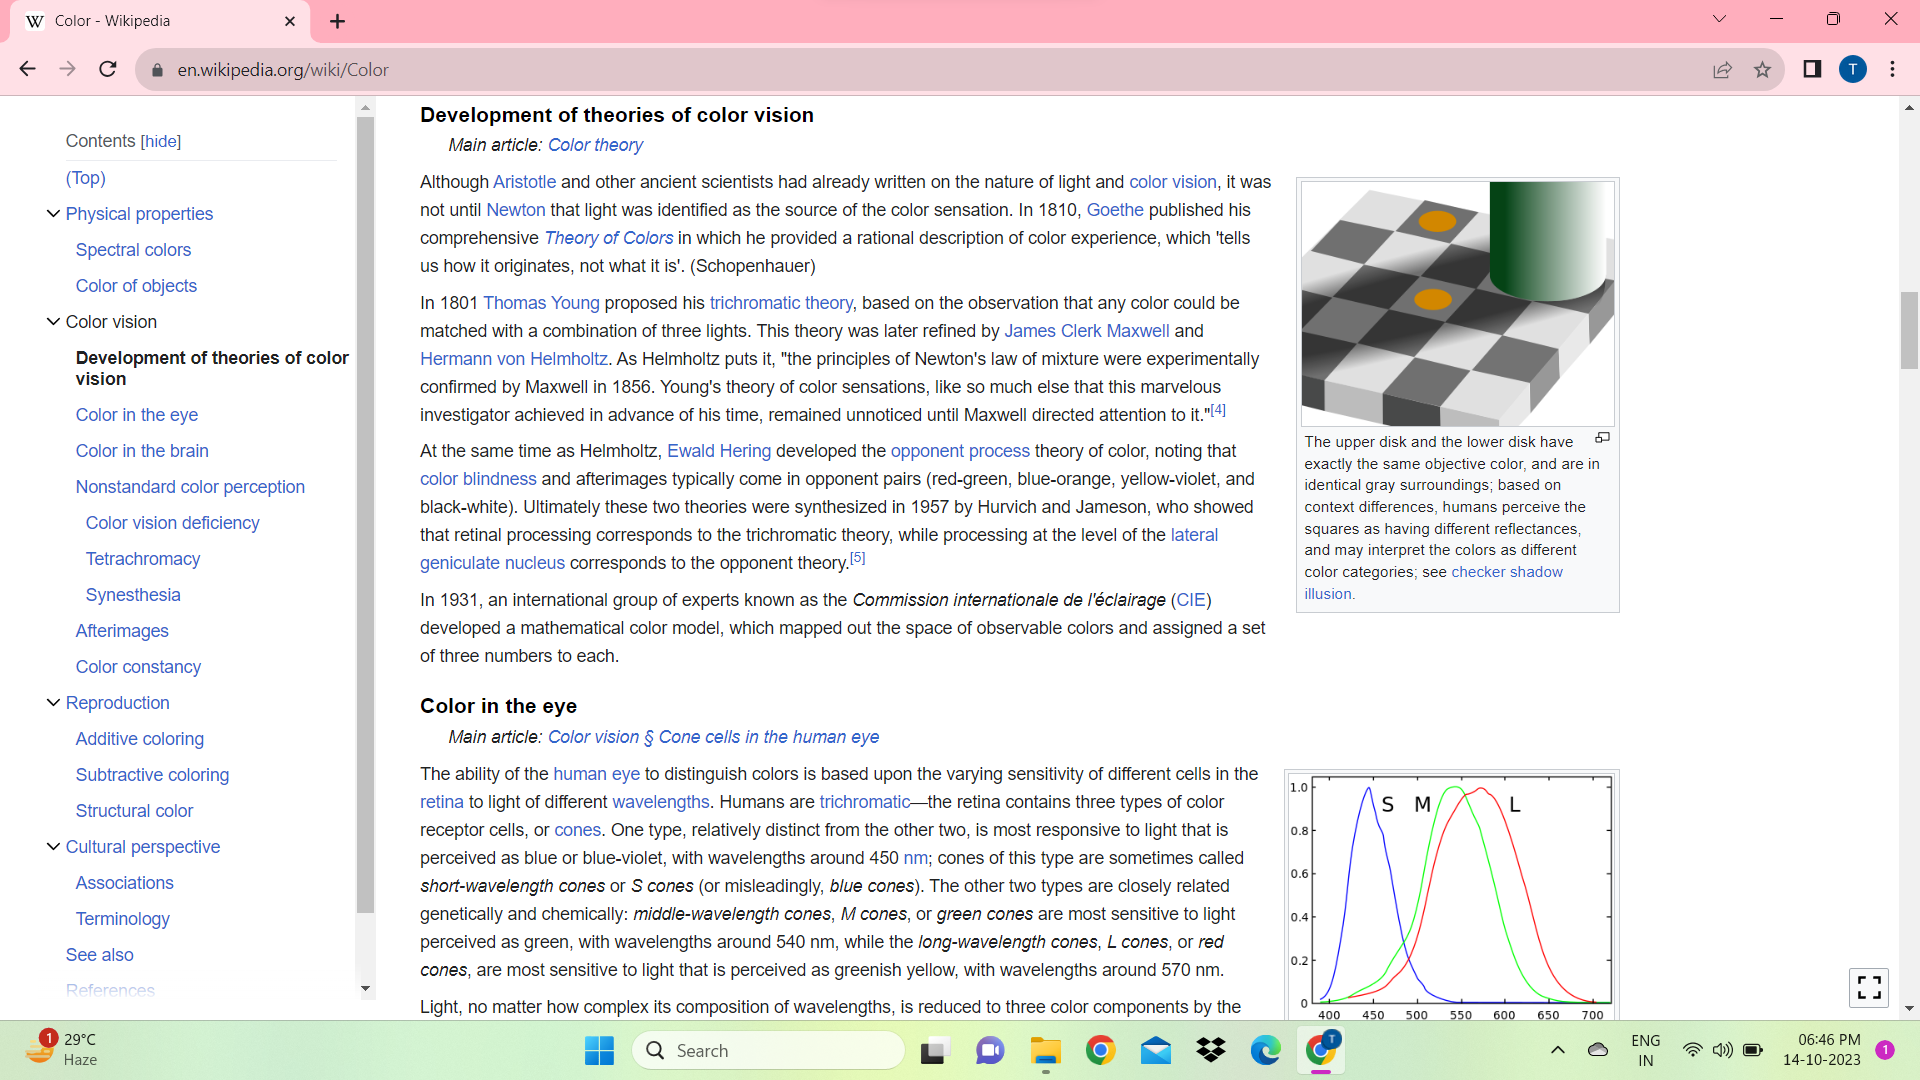Image: (1292, 764, 1627, 1011), (1295, 175, 1621, 418)
Paragraph: (401, 750, 1266, 1014), (407, 438, 1253, 583), (410, 289, 1266, 427), (406, 164, 1269, 281), (406, 580, 1276, 673), (1286, 427, 1627, 607), (58, 340, 352, 397), (440, 720, 885, 756), (404, 99, 880, 129), (80, 505, 265, 543), (75, 757, 237, 796), (69, 472, 309, 498), (447, 133, 644, 160), (411, 691, 584, 719), (69, 725, 211, 756), (62, 686, 186, 719), (57, 200, 224, 224), (58, 835, 223, 858), (65, 615, 187, 645), (54, 128, 196, 152), (67, 272, 227, 293), (71, 438, 211, 462), (74, 651, 211, 675), (75, 549, 223, 570), (67, 796, 196, 820), (74, 404, 216, 425), (65, 903, 186, 927), (71, 237, 199, 258), (74, 869, 179, 893), (58, 940, 142, 969), (67, 311, 170, 335), (75, 583, 204, 601), (61, 162, 112, 187)
